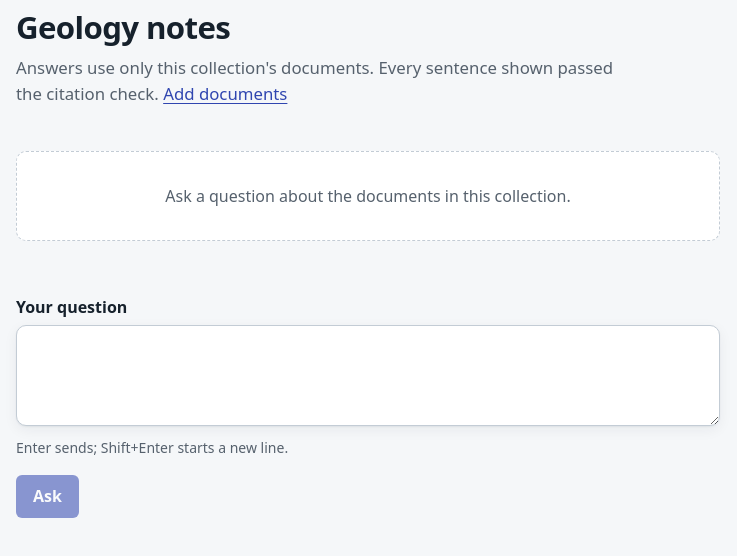
stopping an answer returns focus to the question box
In the text box labelled "Your question": (368, 376) [16, 325, 720, 426], type "What is attention?"
Then press Enter
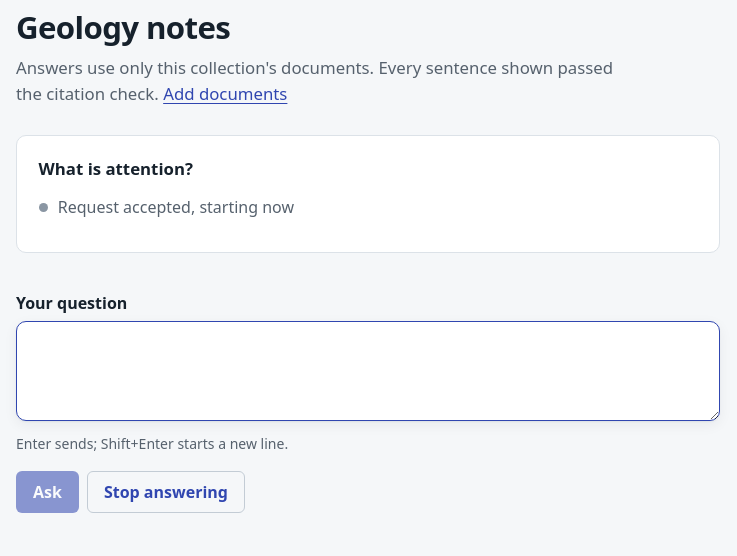
Click the button "Stop answering": (166, 492) [87, 471, 245, 513]
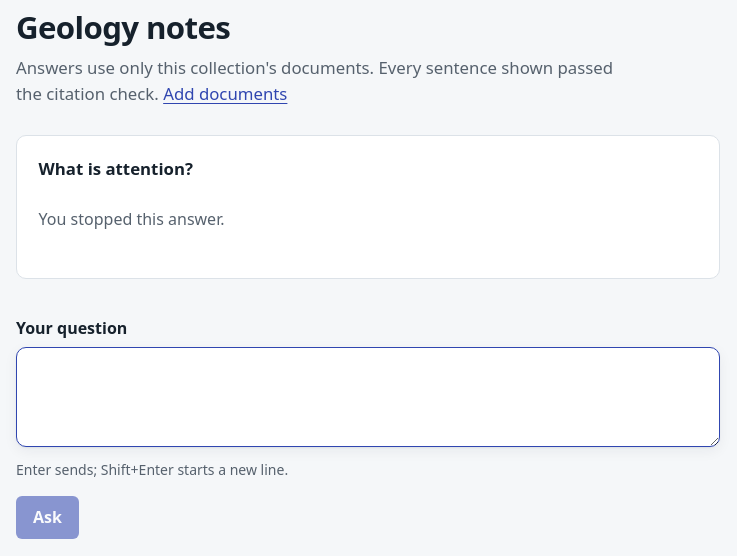
Check: the text "You stopped this answer." is shown, box [39, 208, 224, 230]
